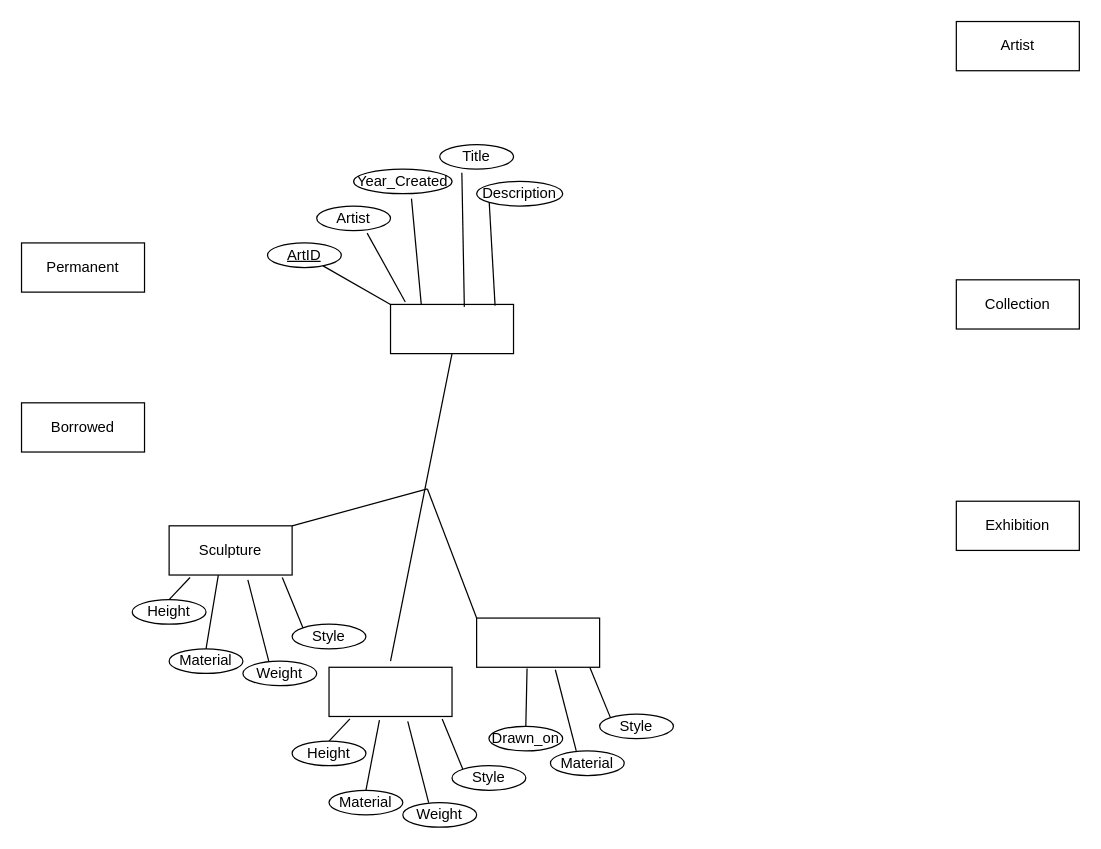
Some shapes in this 1101 by 849 pixel diagram are drawn without their labels. The centre of each missing label's shape, as x and y in pixels:
"Art_Object" goes at (451,328).
"Painting" goes at (537,642).
"Statue" goes at (390,691).
